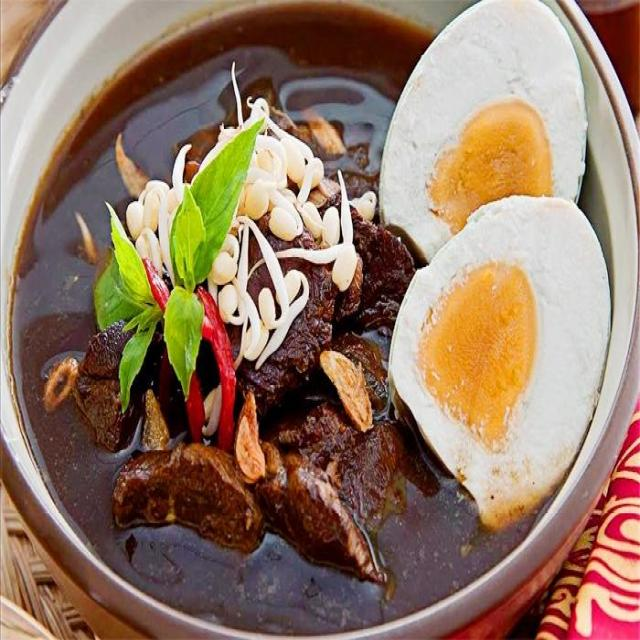Rawon: (46, 0, 558, 610)
